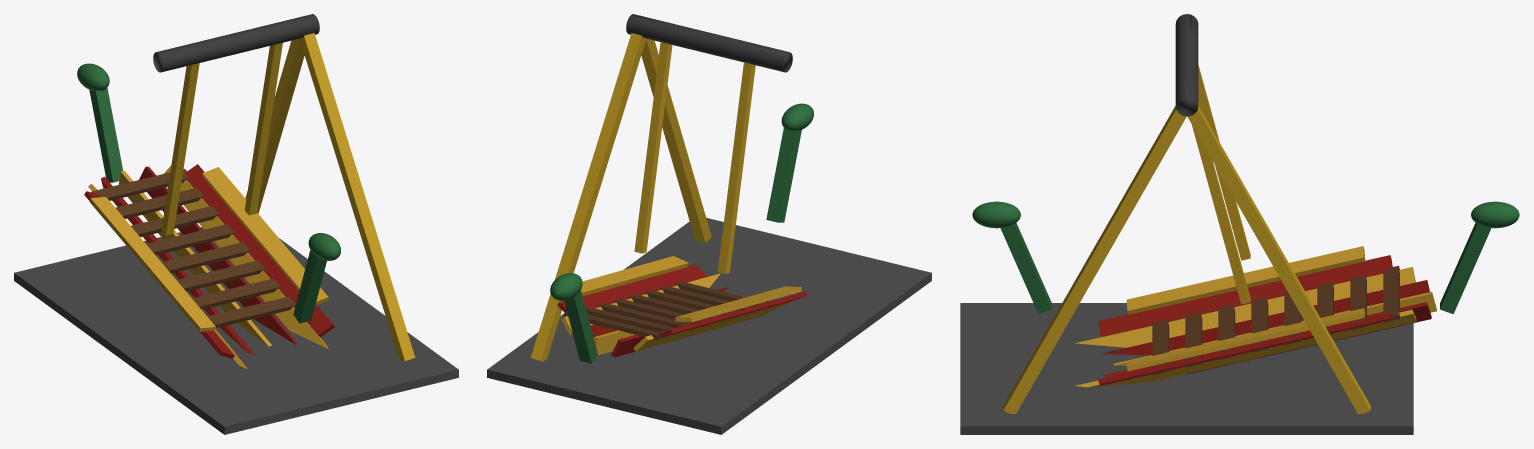
The model's file is barco_viking.glb.
3 renders of one model, left to right at view 1: azimuth 30°, elevation 25°; view 2: azimuth 150°, elevation 25°; view 3: azimuth 270°, elevation 25°, orthographic. The views are drawn at different scales.
Visible parts, largest first — view 1: obj_353; view 2: obj_353; view 3: obj_353.
Part boxes in pixels (x1,y1,x2,y2): obj_353: (14, 14, 458, 434); obj_353: (487, 14, 931, 434); obj_353: (960, 14, 1519, 434).
Bounding box in the file's own units: 9 × 11.6 × 17.27.
Materials: 1 (1 with a texture image).
